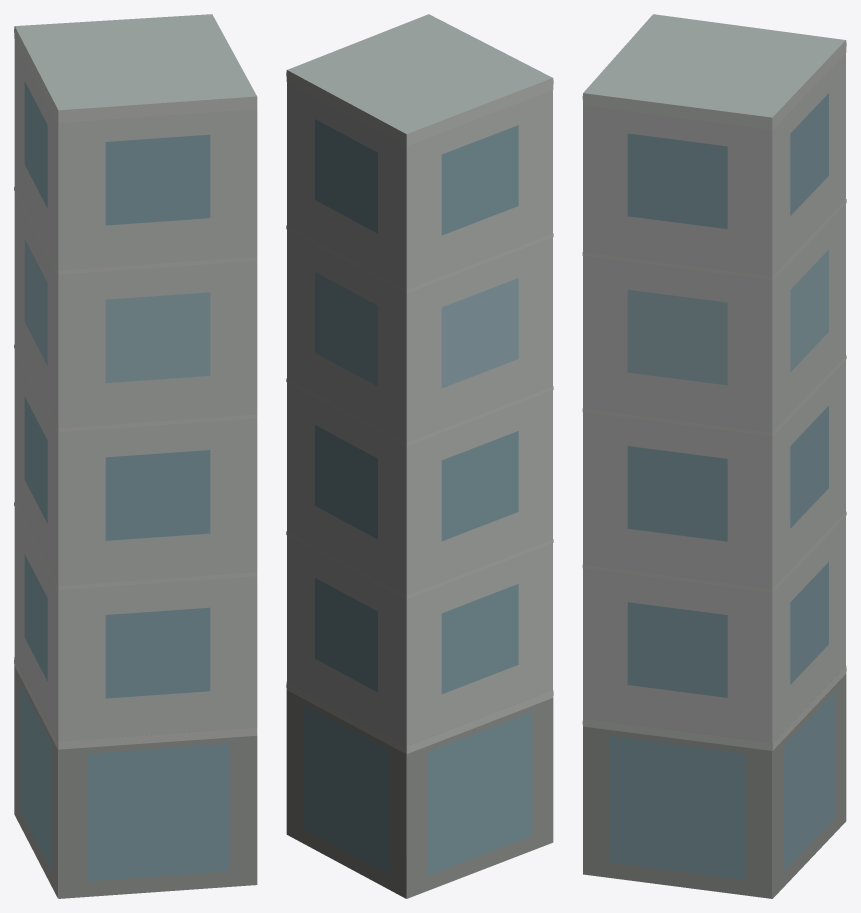
Rendered from survey-upis-32818594.glb.
3 views of the same model, side by side, from view 1: azimuth 30°, elevation 25°; view 2: azimuth 150°, elevation 25°; view 3: azimuth 270°, elevation 25° (orthographic). The views are drawn at different scales.
Parts seen in each view (by area): view 1: survey-upis-32818594.tmp; view 2: survey-upis-32818594.tmp; view 3: survey-upis-32818594.tmp.
Boxes of the visible parts, x1,y1,x2,y2 form: survey-upis-32818594.tmp: [14, 14, 257, 898]; survey-upis-32818594.tmp: [286, 14, 553, 898]; survey-upis-32818594.tmp: [582, 14, 846, 898].
Bounding box in the file's own units: 4.36 × 15.25 × 4.68.
